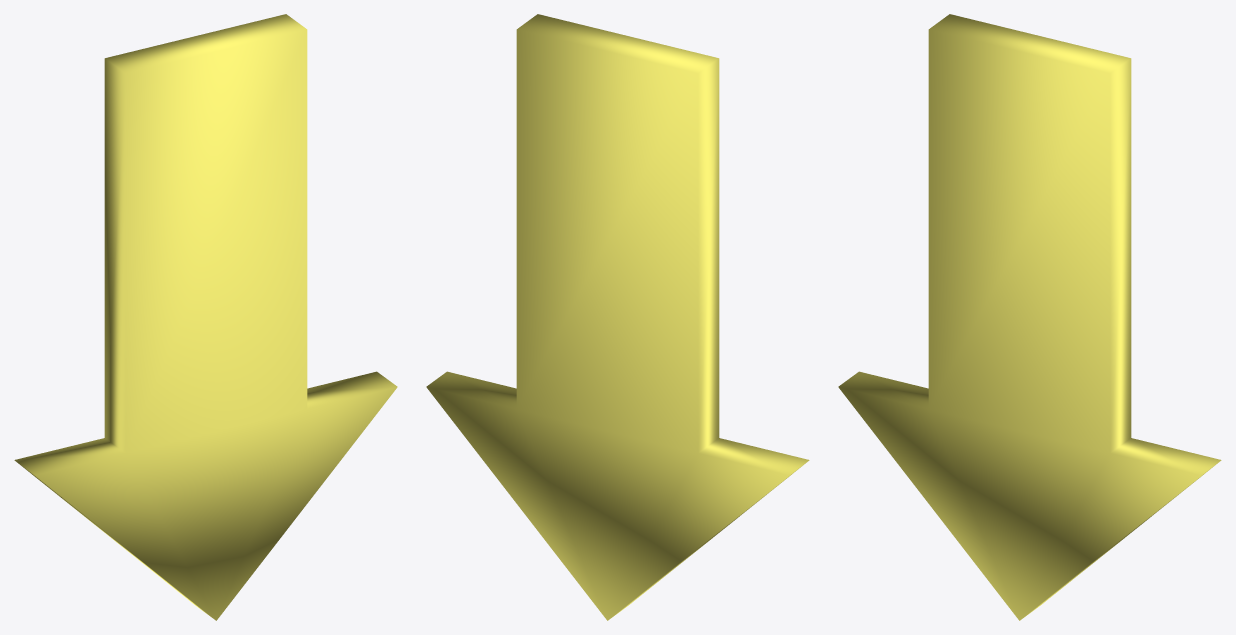
Rendered from downArrow.fbx.
3 renders of one model, left to right at view 1: azimuth 30°, elevation 25°; view 2: azimuth 150°, elevation 25°; view 3: azimuth 330°, elevation 25°, orthographic.
Visible parts, largest first — view 1: group_0_16768282; view 2: group_0_16768282; view 3: group_0_16768282.
Part boxes in pixels (x1,y1,x2,y2): group_0_16768282: (14,14,397,620); group_0_16768282: (426,14,809,620); group_0_16768282: (838,14,1221,620).
Bounding box in the file's own units: 2000 × 3000 × 200.
